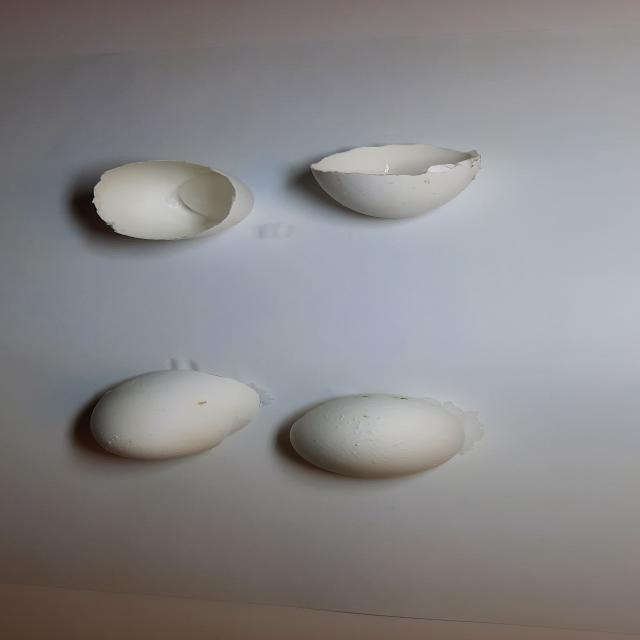egg shell: (74, 355, 280, 467), (280, 388, 494, 488), (294, 131, 504, 227), (75, 156, 273, 248)
